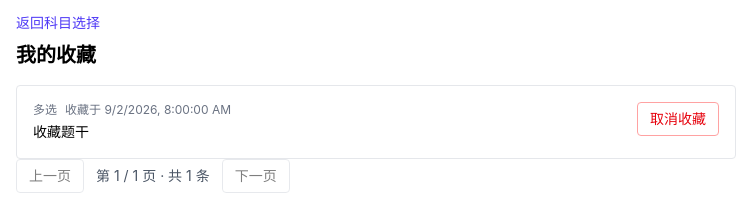
Scenario: FavoritesPage 收藏列表 › 取消收藏：DELETE 对应题目并刷新列表到空态
The image size is (753, 210).
Click the button "取消收藏". click: {"x": 678, "y": 119}
box: [637,102,719,136]
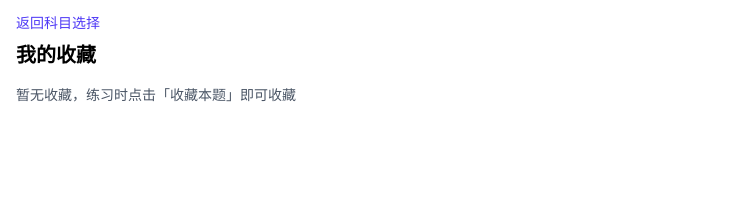
Expected: the text "暂无收藏，练习时点击「收藏本题」即可收藏" is shown, [16,86,296,103]
